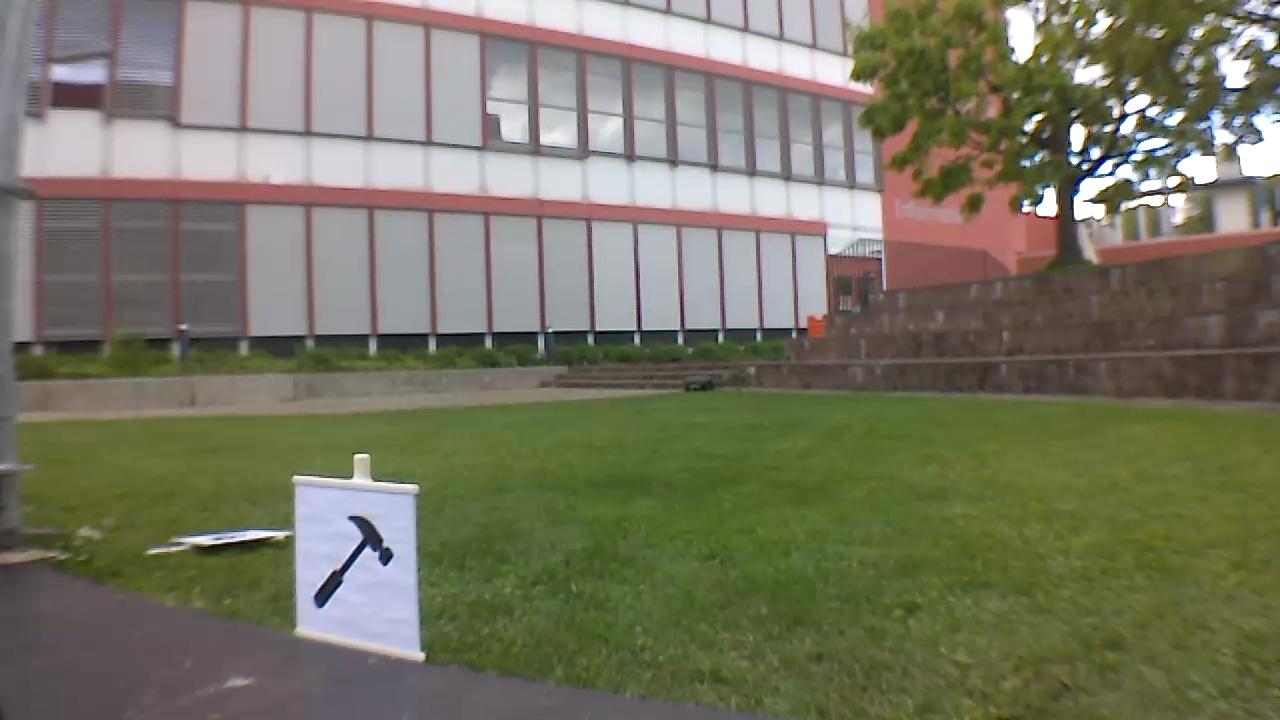hammer: (303, 505, 401, 621)
